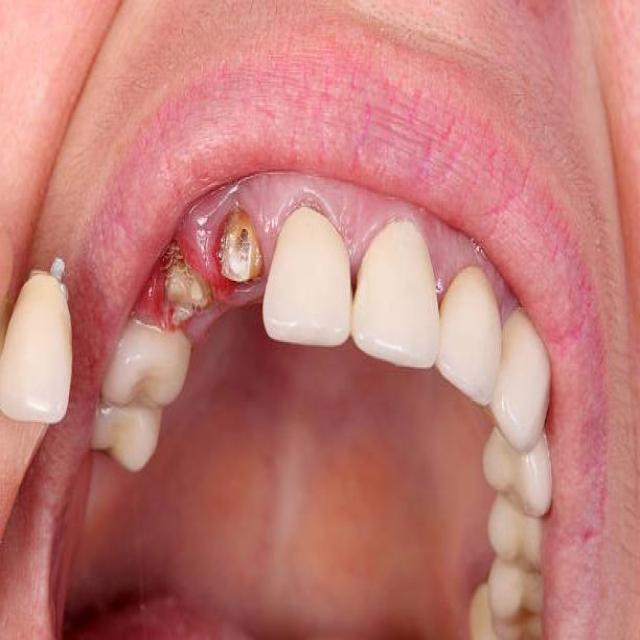caries: (217, 208, 265, 288), (166, 264, 217, 339)
